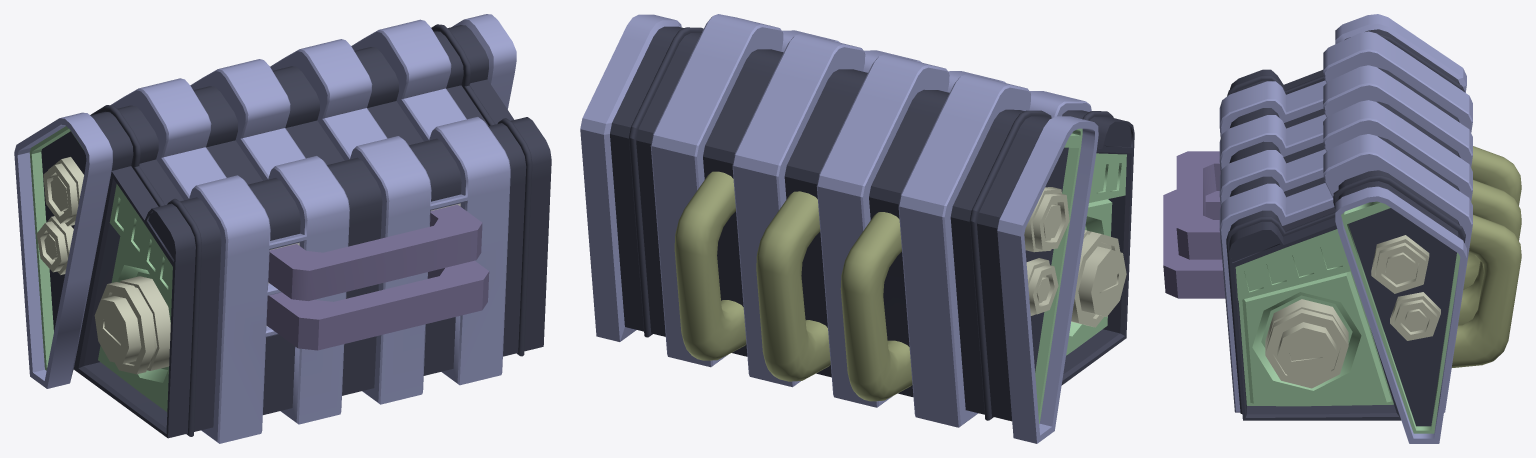
The model's file is Front_Engine.fbx.
3 views of the same model, side by side, from view 1: azimuth 30°, elevation 25°; view 2: azimuth 150°, elevation 25°; view 3: azimuth 270°, elevation 25° (orthographic). The views are drawn at different scales.
Parts seen in each view (by area): view 1: Front_Engine; view 2: Front_Engine; view 3: Front_Engine.
Part boxes in pixels (bbox=[...]): Front_Engine: bbox=[14, 14, 551, 443]; Front_Engine: bbox=[580, 14, 1134, 443]; Front_Engine: bbox=[1163, 14, 1521, 443].
Size of the model in its own units: 43.44 by 29.05 by 36.11.
